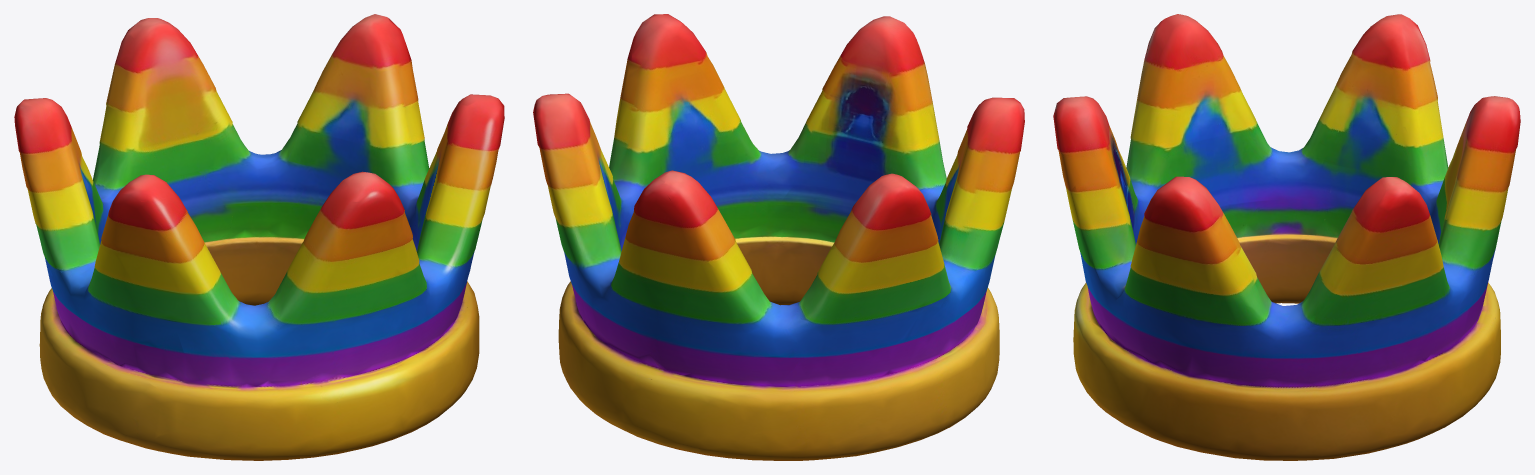
Rendered from cs-my-rainbow-crown.glb.
The picture shows the model from 3 angles, left to right: view 1: azimuth 30°, elevation 25°; view 2: azimuth 150°, elevation 25°; view 3: azimuth 270°, elevation 25°; orthographic projection.
Visible parts, largest first — view 1: tripo_node_71553ed1-220f-4db3-9b39-808bd7d48b71; view 2: tripo_node_71553ed1-220f-4db3-9b39-808bd7d48b71; view 3: tripo_node_71553ed1-220f-4db3-9b39-808bd7d48b71.
Part boxes in pixels (left/top/right/bottom): tripo_node_71553ed1-220f-4db3-9b39-808bd7d48b71: left=14, top=14, right=504, bottom=460; tripo_node_71553ed1-220f-4db3-9b39-808bd7d48b71: left=533, top=14, right=1024, bottom=460; tripo_node_71553ed1-220f-4db3-9b39-808bd7d48b71: left=1053, top=14, right=1520, bottom=460.
Bounding box in the file's own units: 0.9507 × 0.6556 × 1.
1 material, 1 textured.
